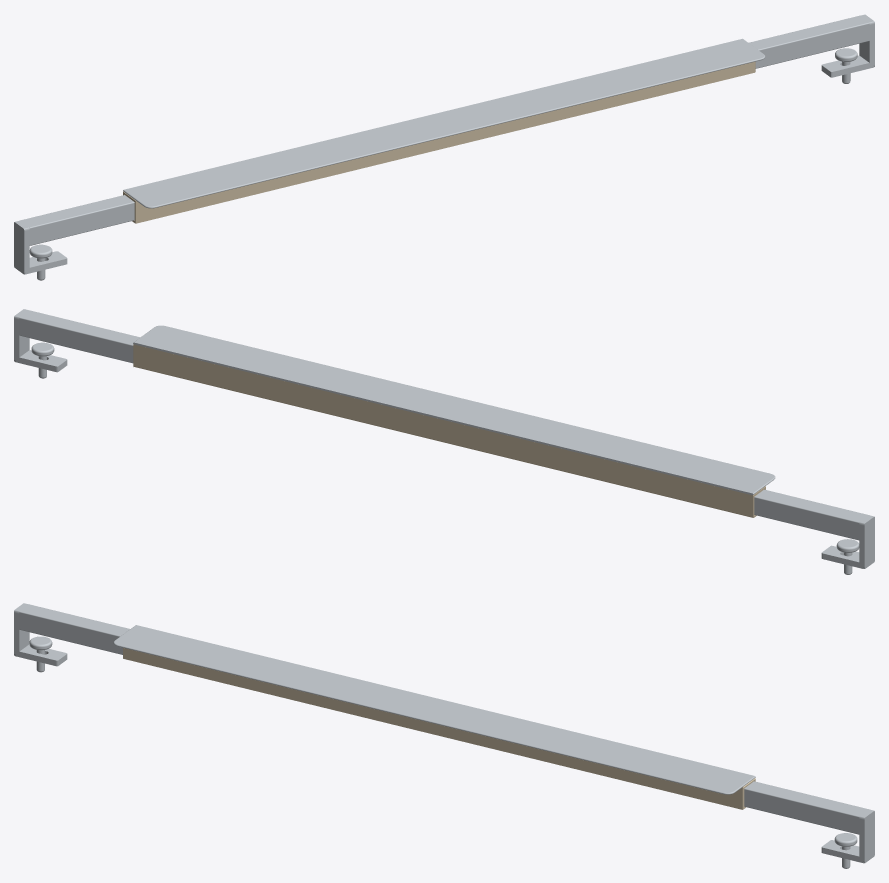
File: ergoflex-easel-accessory.glb
3 views of the same model, one above another, from view 1: azimuth 30°, elevation 25°; view 2: azimuth 150°, elevation 25°; view 3: azimuth 330°, elevation 25° (orthographic).
Parts seen in each view (by area): view 1: Mesh_0, Mesh_7; view 2: Mesh_0, Mesh_7; view 3: Mesh_0, Mesh_7.
Boxes of the visible parts, x1=… form: Mesh_0: x1=14, y1=14, x2=874, y2=280; Mesh_7: x1=123, y1=61, x2=755, y2=223; Mesh_0: x1=14, y1=309, x2=874, y2=574; Mesh_7: x1=133, y1=344, x2=765, y2=517; Mesh_0: x1=14, y1=603, x2=874, y2=868; Mesh_7: x1=123, y1=648, x2=755, y2=809.
Bounding box in the file's own units: 1.49 × 0.1057 × 0.0762.
